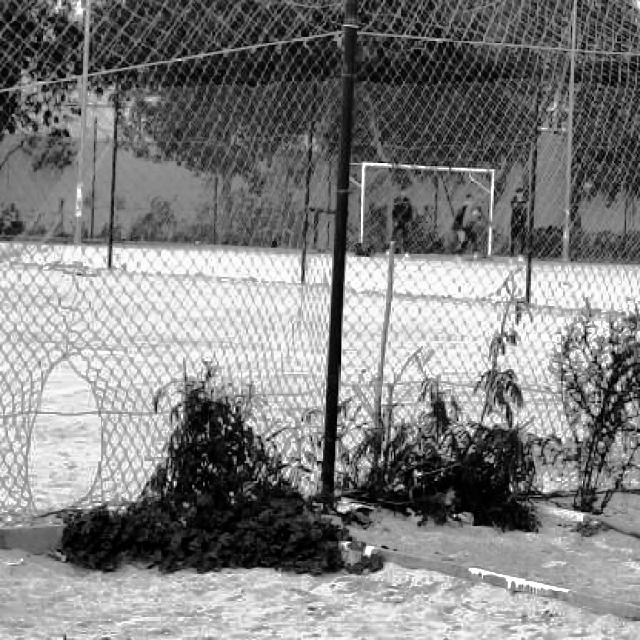anomaly-fence: (21, 157, 143, 537)
